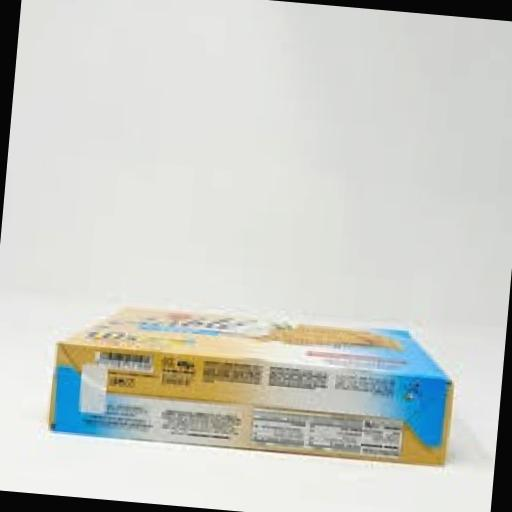sable: (19, 246, 494, 512)
